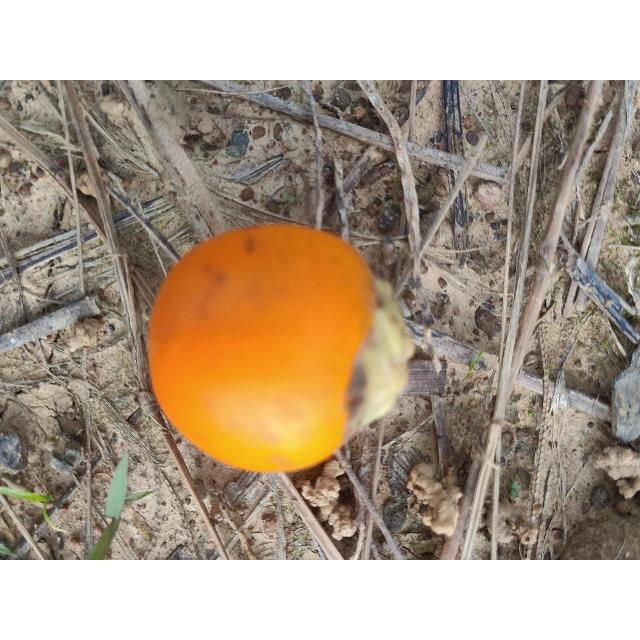good: (146, 223, 416, 475)
